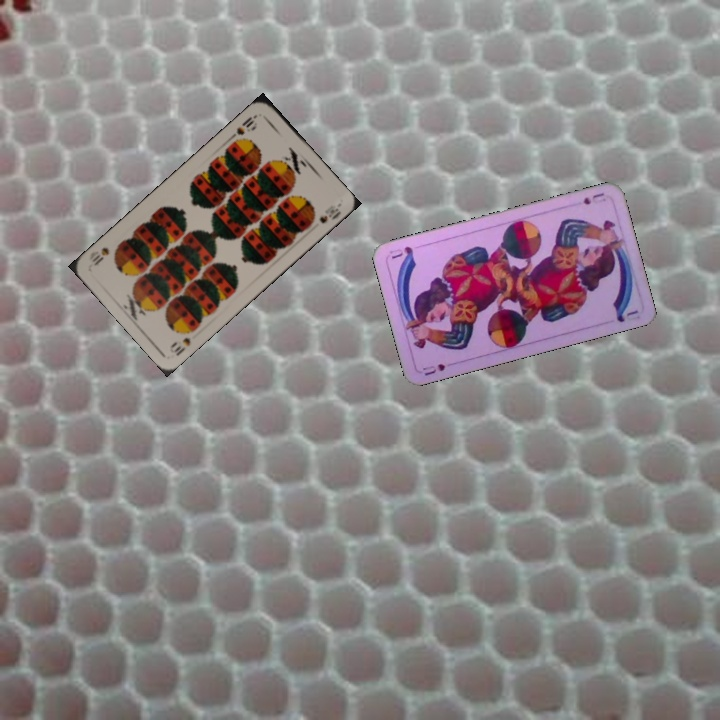S10: (165, 325, 198, 359), (227, 110, 260, 141)
SU: (418, 359, 448, 378), (579, 189, 606, 207)
